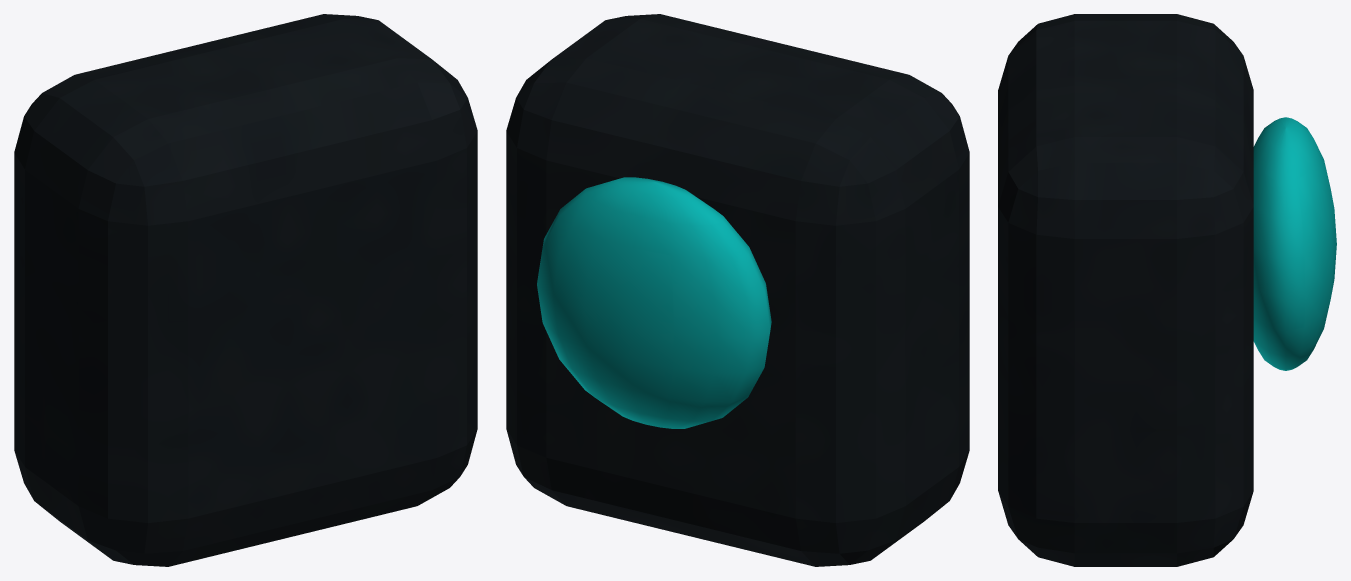
The model's file is Beacon.fbx.
3 renders of one model, left to right at view 1: azimuth 30°, elevation 25°; view 2: azimuth 150°, elevation 25°; view 3: azimuth 270°, elevation 25°, orthographic. The views are drawn at different scales.
Visible parts, largest first — view 1: Beacon; view 2: Beacon; view 3: Beacon.
Part boxes in pixels (x1=…): Beacon: x1=14, y1=14, x2=477, y2=566; Beacon: x1=506, y1=14, x2=969, y2=566; Beacon: x1=998, y1=14, x2=1336, y2=566.
Bounding box in the file's own units: 6.7 × 5.3 × 7.3.
Materials: 2 (2 with a texture image).
